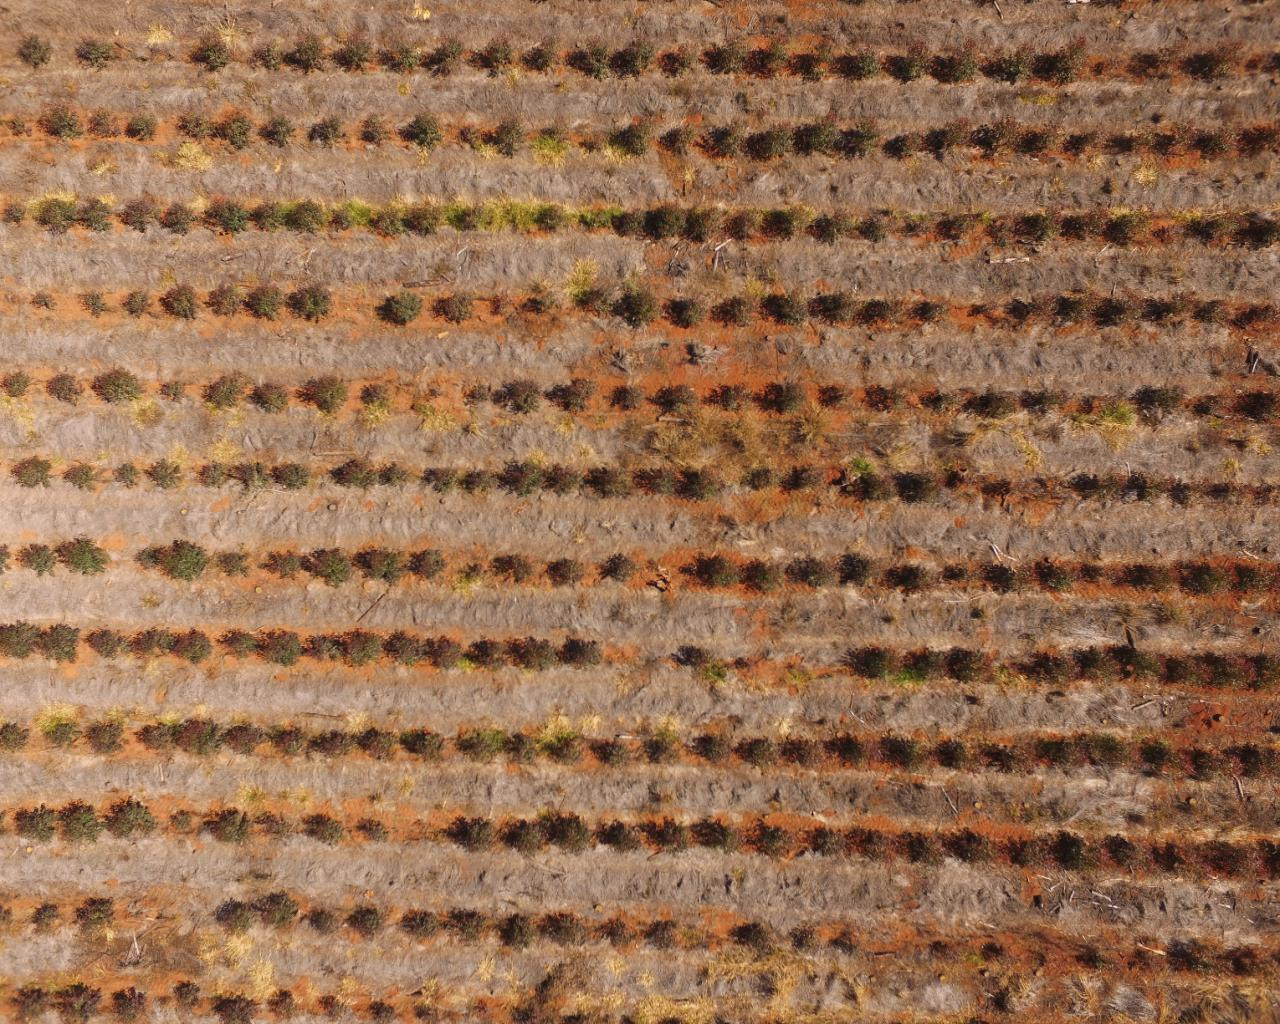Tree: (931, 36, 981, 88), (1035, 40, 1089, 89), (1112, 646, 1164, 691), (986, 40, 1035, 87), (839, 44, 884, 91), (889, 37, 931, 86), (166, 537, 210, 582), (300, 548, 349, 587), (1101, 833, 1146, 876), (353, 548, 406, 583), (798, 822, 848, 859), (879, 735, 927, 772), (498, 817, 546, 855), (469, 37, 515, 74), (207, 899, 257, 933), (796, 40, 836, 83), (450, 812, 493, 852), (60, 537, 107, 573), (40, 625, 82, 665), (296, 378, 347, 411), (255, 891, 301, 927), (890, 831, 940, 863), (255, 548, 300, 583), (747, 40, 786, 80), (645, 823, 693, 856), (565, 44, 605, 83), (288, 284, 330, 321), (544, 381, 595, 412), (610, 43, 655, 76), (1078, 652, 1123, 685), (1, 620, 39, 659), (1209, 853, 1269, 878), (704, 41, 745, 77), (852, 827, 888, 867), (552, 810, 588, 851), (83, 628, 132, 658), (698, 820, 740, 856), (1054, 829, 1090, 870), (379, 290, 422, 325), (557, 637, 604, 669), (808, 104, 837, 155), (385, 632, 428, 666), (755, 385, 807, 413), (92, 374, 143, 402), (426, 290, 472, 322), (133, 627, 179, 658), (243, 284, 286, 318), (753, 821, 792, 858), (1030, 654, 1075, 685), (191, 37, 237, 67), (522, 38, 560, 74), (10, 453, 54, 485), (949, 832, 996, 861), (288, 30, 327, 66), (552, 729, 587, 768), (1006, 835, 1046, 869), (645, 386, 697, 412), (388, 39, 424, 75), (262, 630, 299, 667), (1167, 654, 1211, 684), (429, 637, 469, 671), (205, 808, 247, 839), (446, 908, 488, 939), (492, 381, 540, 409), (739, 738, 782, 768), (901, 468, 935, 506), (303, 632, 341, 667), (18, 543, 57, 576), (160, 285, 201, 317), (498, 913, 536, 947), (646, 209, 689, 238), (939, 741, 978, 773), (301, 812, 341, 843), (702, 382, 749, 409), (600, 821, 636, 855), (1214, 654, 1251, 688), (1146, 297, 1191, 324), (401, 732, 446, 760), (37, 201, 75, 232), (468, 639, 507, 671), (26, 898, 60, 933), (1195, 44, 1232, 76), (80, 901, 113, 937), (111, 802, 153, 831), (144, 459, 183, 489), (225, 725, 263, 755), (11, 32, 47, 65), (331, 461, 372, 489), (344, 634, 380, 666), (716, 117, 746, 155), (830, 738, 867, 768), (990, 741, 1027, 771), (77, 38, 116, 67), (1139, 382, 1179, 411), (594, 740, 633, 768), (71, 802, 99, 842), (345, 911, 385, 939), (951, 651, 985, 683), (776, 292, 812, 323), (429, 36, 461, 71), (222, 628, 257, 659), (215, 548, 252, 578), (1185, 747, 1231, 771), (308, 730, 352, 755), (769, 211, 811, 237), (1055, 298, 1097, 324), (867, 385, 906, 413), (515, 639, 554, 668), (460, 734, 498, 762), (824, 288, 856, 323), (503, 461, 537, 492), (1101, 298, 1142, 324), (786, 738, 823, 766), (1124, 566, 1170, 589), (842, 557, 881, 584), (858, 650, 897, 677), (180, 630, 212, 662), (623, 294, 656, 325), (1193, 299, 1235, 324), (619, 119, 649, 154), (757, 124, 787, 159), (276, 463, 311, 492), (398, 910, 438, 936), (1027, 391, 1065, 418), (201, 380, 241, 405), (162, 202, 194, 233), (78, 200, 111, 231), (20, 808, 52, 839), (645, 916, 677, 948), (605, 916, 638, 947), (133, 542, 168, 571), (508, 732, 536, 768), (205, 285, 241, 312), (697, 559, 735, 585), (185, 721, 214, 754), (305, 907, 339, 936), (1162, 843, 1196, 871), (644, 739, 679, 766), (360, 731, 396, 759), (692, 739, 734, 762), (1074, 475, 1111, 502), (496, 556, 533, 582), (1239, 750, 1279, 774), (48, 374, 82, 402), (680, 470, 714, 498), (1038, 740, 1075, 765), (371, 209, 405, 236), (65, 460, 99, 487), (912, 652, 947, 679), (219, 201, 252, 229), (965, 393, 1017, 411), (858, 476, 891, 504), (743, 561, 776, 588), (336, 43, 374, 67), (353, 817, 389, 842), (662, 50, 694, 78), (275, 727, 303, 759), (408, 110, 435, 142), (939, 119, 963, 156), (255, 202, 285, 230), (726, 296, 754, 326), (853, 120, 880, 152), (44, 110, 76, 136), (990, 121, 1016, 154), (252, 387, 288, 410), (148, 724, 178, 752), (0, 719, 27, 749), (360, 115, 387, 146), (1154, 123, 1178, 157), (122, 200, 150, 228), (413, 549, 442, 576), (261, 813, 290, 840), (288, 205, 323, 228), (675, 299, 705, 325), (1125, 475, 1156, 502), (495, 112, 520, 143), (542, 466, 578, 488), (1185, 566, 1218, 589), (548, 561, 581, 584), (114, 461, 137, 494), (982, 568, 1021, 588), (1200, 130, 1228, 157), (2, 370, 29, 398), (87, 109, 113, 138), (605, 389, 642, 410), (694, 212, 724, 237), (643, 472, 677, 494), (1231, 568, 1271, 587), (736, 209, 763, 236), (664, 123, 690, 152), (222, 117, 247, 146), (197, 462, 231, 484), (1255, 656, 1279, 686), (898, 571, 934, 590), (1172, 479, 1195, 510), (737, 470, 771, 491), (89, 728, 120, 751), (1116, 130, 1142, 156), (583, 289, 609, 316), (82, 289, 107, 317), (548, 915, 575, 940), (793, 928, 821, 952), (594, 473, 626, 494), (679, 647, 712, 668), (123, 292, 153, 315), (600, 555, 629, 578), (358, 383, 389, 405), (791, 468, 821, 490), (265, 118, 289, 145), (330, 206, 354, 233), (381, 461, 410, 484), (918, 302, 948, 324), (1246, 395, 1275, 417), (1249, 224, 1279, 245), (818, 388, 847, 409), (1041, 571, 1073, 589), (130, 115, 155, 139), (615, 209, 639, 234), (899, 130, 918, 160), (1013, 300, 1048, 317), (460, 385, 489, 404), (1091, 746, 1117, 768), (1035, 126, 1056, 154), (1248, 132, 1269, 159), (798, 564, 825, 584), (319, 119, 343, 141), (48, 723, 72, 745), (252, 46, 283, 63), (1076, 131, 1097, 155), (456, 206, 480, 227), (409, 214, 437, 232), (836, 927, 855, 953), (1071, 217, 1100, 234), (942, 564, 970, 582), (460, 125, 482, 147), (4, 203, 27, 224), (877, 303, 902, 322), (162, 377, 181, 402), (428, 466, 445, 494), (868, 215, 886, 241), (542, 208, 564, 229), (523, 296, 556, 309), (948, 219, 970, 239), (182, 120, 209, 136), (933, 932, 949, 959), (824, 220, 844, 241), (30, 294, 54, 310), (173, 810, 192, 830), (744, 926, 765, 944), (1201, 224, 1228, 237), (979, 945, 1004, 959), (1146, 744, 1172, 758), (1079, 565, 1104, 579), (1, 539, 10, 574), (1211, 486, 1233, 501), (463, 474, 488, 487), (1034, 220, 1055, 235), (926, 395, 945, 411), (993, 225, 1013, 239), (972, 303, 994, 313), (1195, 399, 1209, 413), (11, 120, 24, 134), (1116, 222, 1139, 229)
